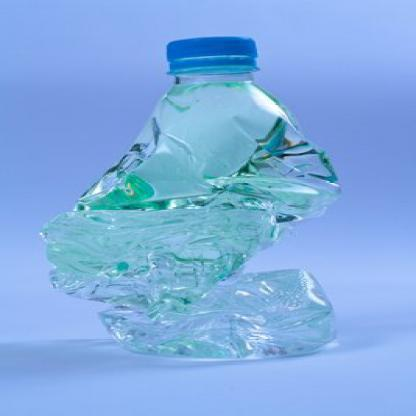bottle: (21, 19, 358, 367)
